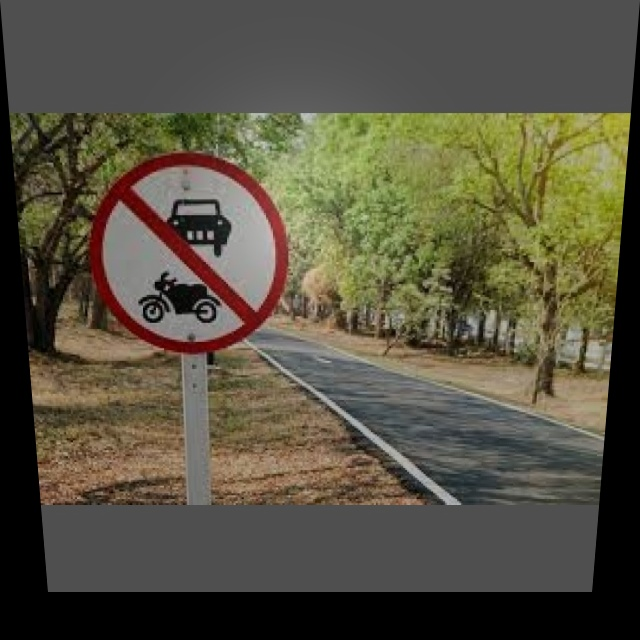All_Motor_Vehicles_Prohibited: (88, 153, 286, 348)
